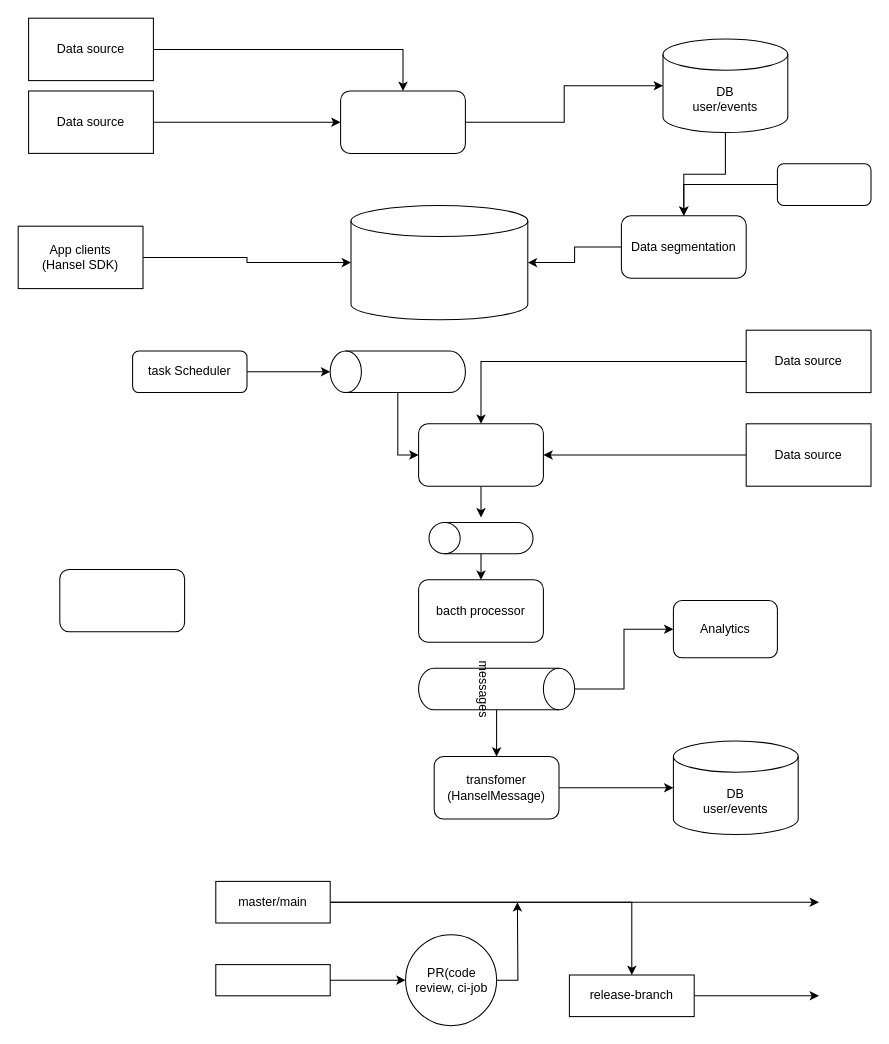
Image size: 889x1044. Some labels were removed from this diagram. Here are the shapes that lost their labels. From the top down, the centre of each, then its label:
At (x=402, y=121): "Data Ingention pipeline".
At (x=823, y=184): "segments API".
At (x=439, y=262): "results ex: userId: { seg1 : true seg2: false seg3: true }".
At (x=397, y=371): "jsob queues".
At (x=480, y=454): "ingestion service".
At (x=480, y=538): "batches".
At (x=122, y=600): "SaaS Dashboard".
At (x=272, y=980): "feature/bug".
